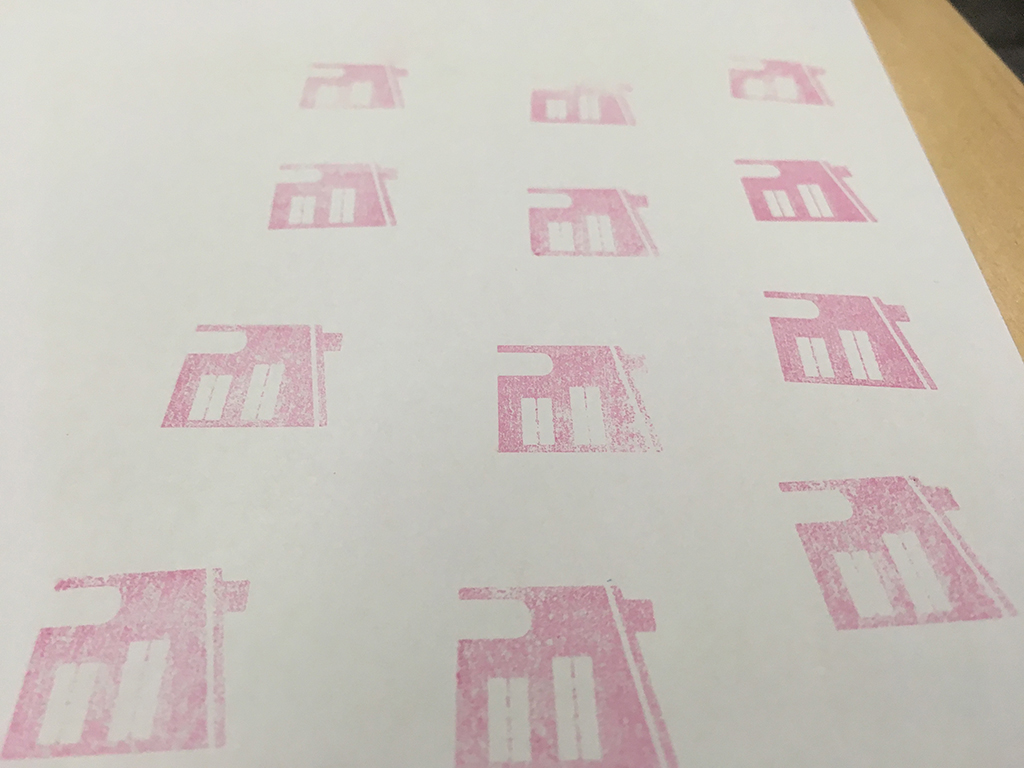house: (1, 559, 267, 768), (438, 570, 695, 768), (768, 465, 1024, 636), (149, 312, 353, 439), (752, 279, 956, 406), (481, 334, 677, 462), (256, 150, 420, 240), (721, 144, 886, 232), (513, 176, 668, 267), (520, 66, 646, 131), (283, 54, 424, 112), (713, 48, 838, 111)
